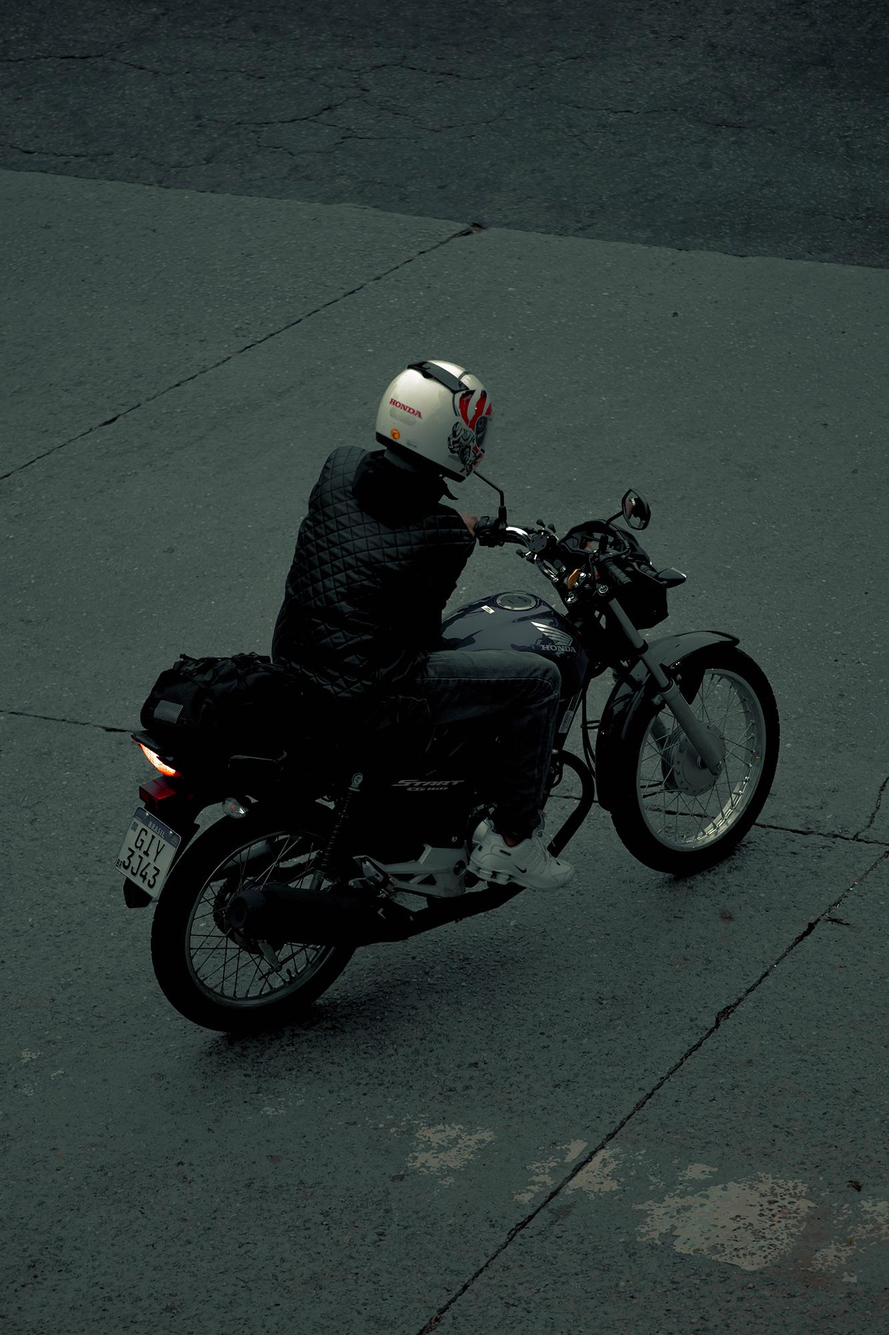helmet: (374, 358, 497, 484)
